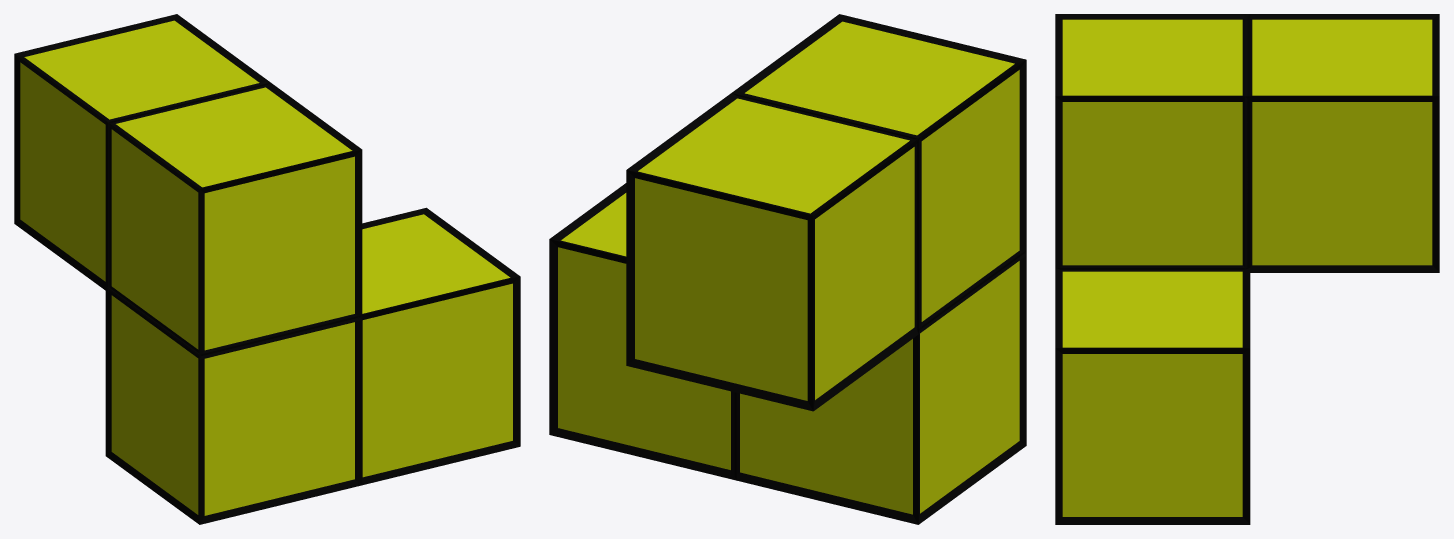
3 views of the same model, side by side, from view 1: azimuth 30°, elevation 25°; view 2: azimuth 150°, elevation 25°; view 3: azimuth 270°, elevation 25° (orthographic). The views are drawn at different scales.
Parts seen in each view (by area): view 1: b4:Mesh; view 2: b4:Mesh; view 3: b4:Mesh.
Boxes of the visible parts, left/top/right/bottom form: b4:Mesh: left=14, top=14, right=520, bottom=524; b4:Mesh: left=549, top=14, right=1026, bottom=524; b4:Mesh: left=1055, top=14, right=1439, bottom=524.
Size of the model in its own units: 4.06 by 4.06 by 4.06.
